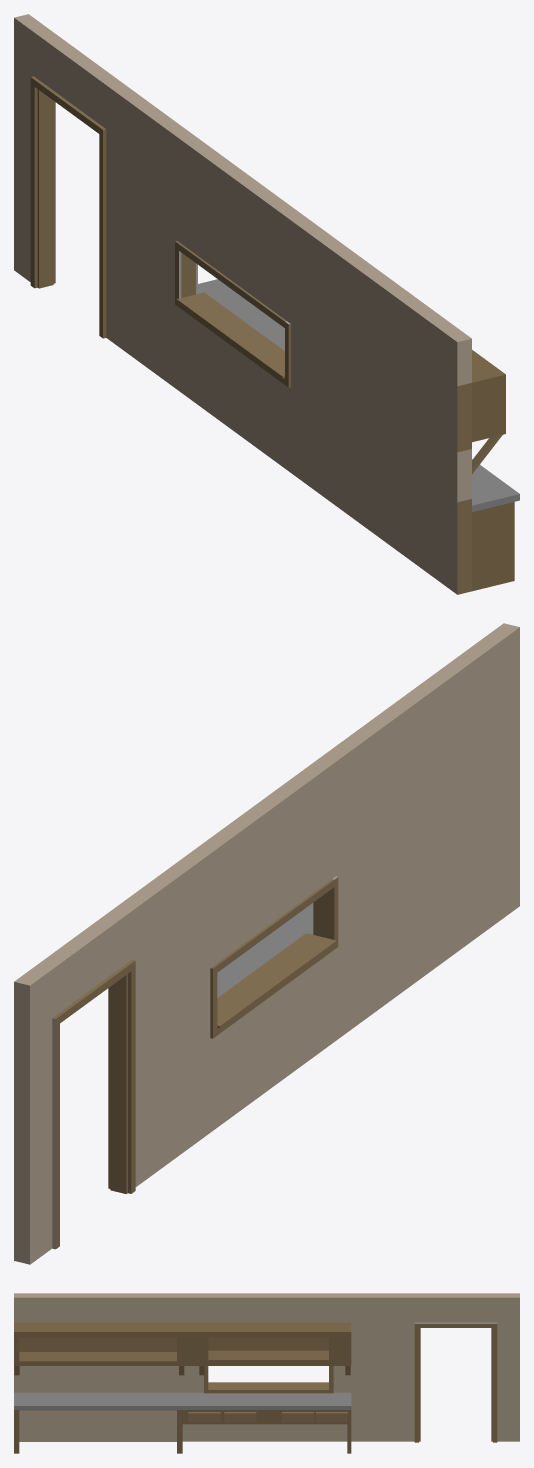
File: KitchenWall02.fbx
3 views of the same model, one above another, from view 1: azimuth 30°, elevation 25°; view 2: azimuth 150°, elevation 25°; view 3: azimuth 270°, elevation 25° (orthographic). The views are drawn at different scales.
Visible parts, largest first — view 1: KitchenWall02; view 2: KitchenWall02; view 3: KitchenWall02.
Boxes of the visible parts, x1=… form: KitchenWall02: x1=14, y1=14, x2=519, y2=594; KitchenWall02: x1=14, y1=623, x2=519, y2=1264; KitchenWall02: x1=14, y1=1293, x2=519, y2=1453.
Size of the model in its own units: 3.06 by 11 by 35.
